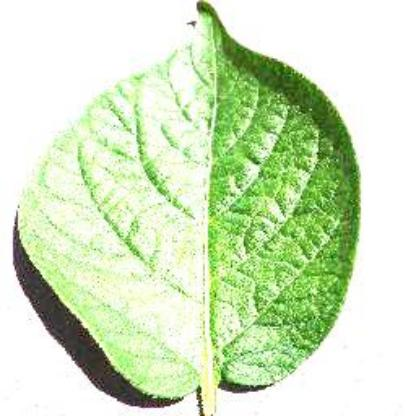Healthy-plant: (22, 23, 364, 398)
